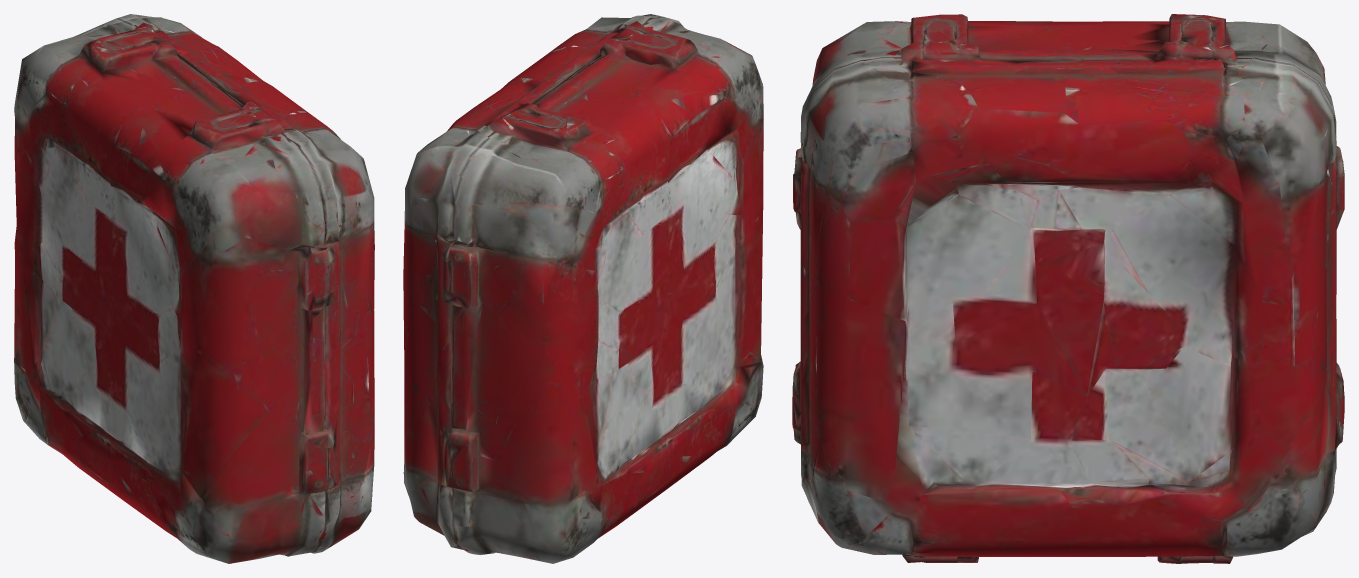
Rendered from medkit.922e63e8.glb.
3 renders of one model, left to right at view 1: azimuth 30°, elevation 25°; view 2: azimuth 150°, elevation 25°; view 3: azimuth 270°, elevation 25°, orthographic. The views are drawn at different scales.
Visible parts, largest first — view 1: item; view 2: item; view 3: item.
Part boxes in pixels (left/top/right/bottom): item: left=14, top=14, right=374, bottom=563; item: left=403, top=14, right=763, bottom=563; item: left=792, top=14, right=1344, bottom=563.
Size of the model in its own units: 0.1199 by 0.2817 by 0.2795.
Materials: 1 (1 with a texture image).
